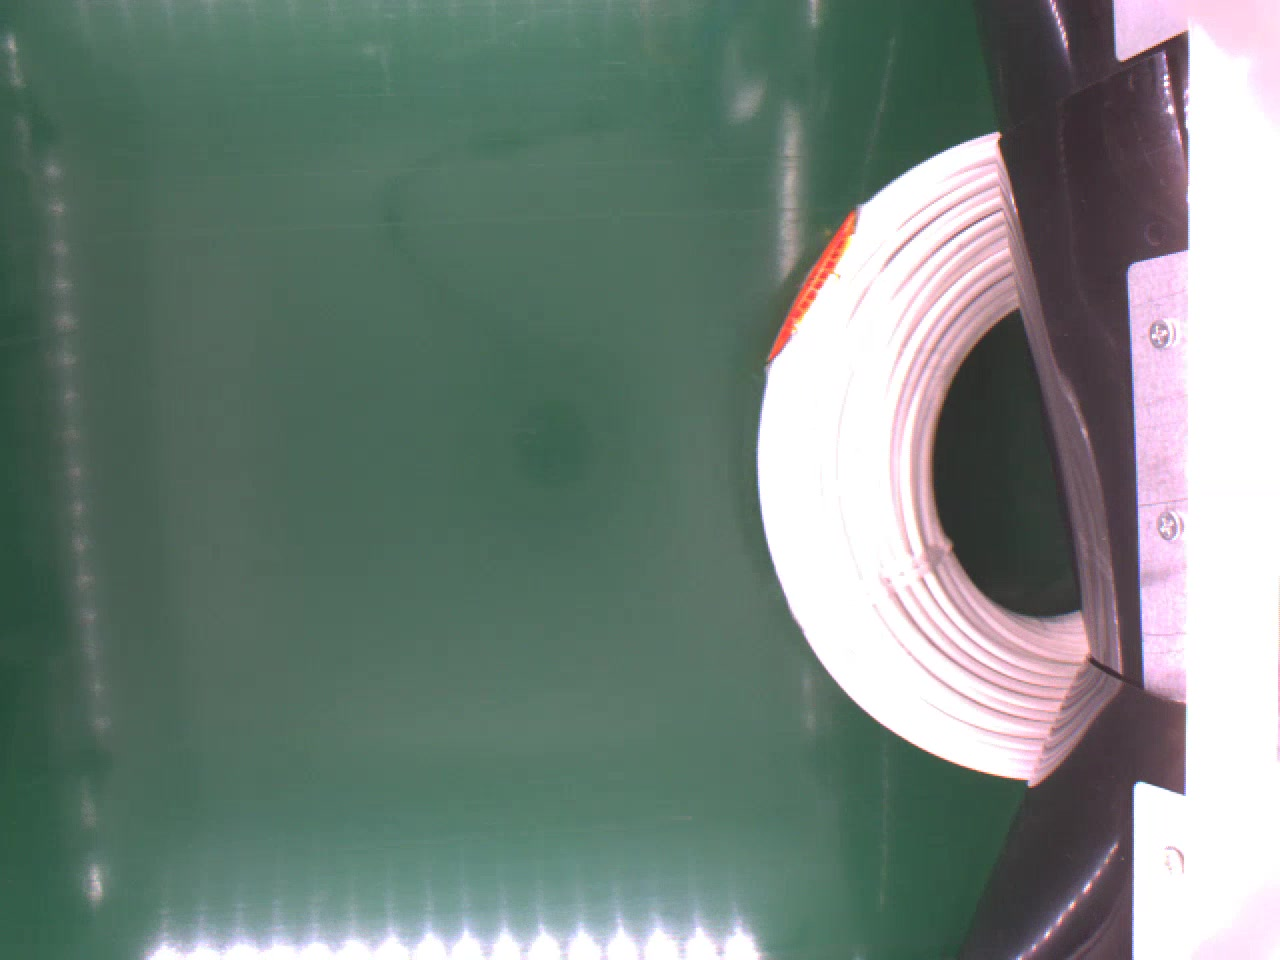white: (757, 129, 1095, 776)
